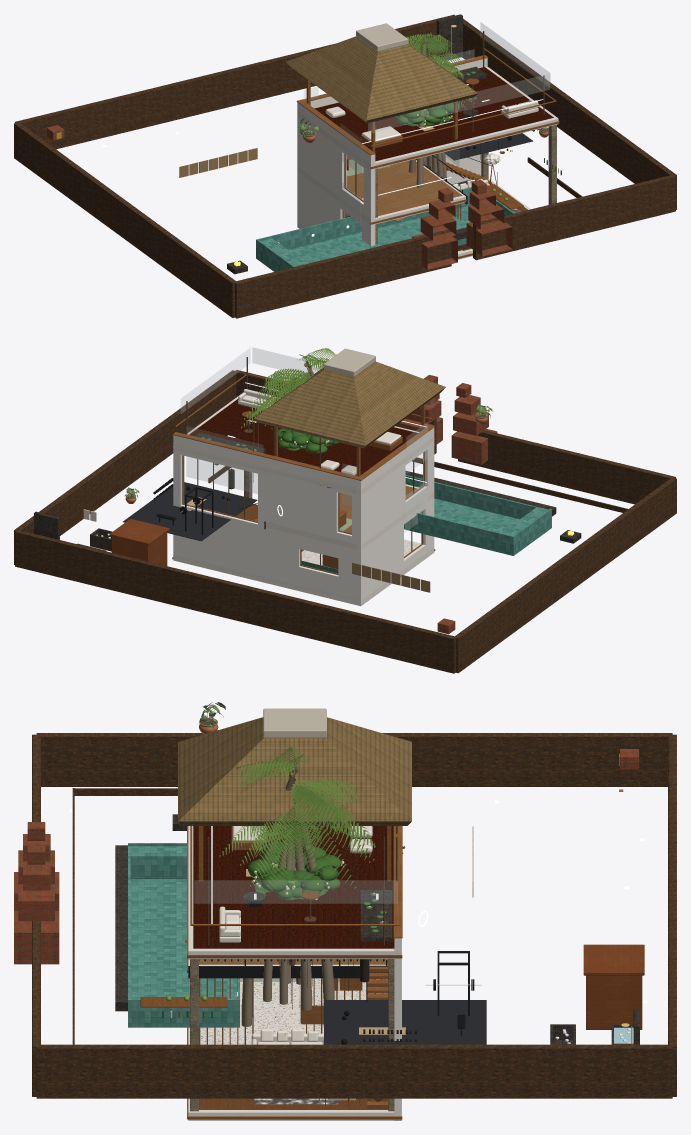
Rendered from villa-ar.glb.
The picture shows the model from 3 angles, top to bottom: view 1: azimuth 30°, elevation 25°; view 2: azimuth 150°, elevation 25°; view 3: azimuth 270°, elevation 25°; orthographic projection. The views are drawn at different scales.
Visible parts, largest first — view 1: bali_near, villa_arch, mezz_glass, palm1f; view 2: bali_near, villa_arch, mezz_glass, palm0f (×2), palm1f; view 3: bali_near, villa_arch, palm0f (×4), mezz_glass, palm2f (×2), frangi (×2), palm1f.
Part boxes in pixels (x1,y1,x2,y2): bali_near: [14, 14, 676, 318]; villa_arch: [286, 23, 559, 259]; mezz_glass: [304, 22, 550, 231]; palm1f: [407, 32, 450, 187]; bali_near: [14, 370, 676, 673]; villa_arch: [172, 348, 445, 606]; mezz_glass: [181, 347, 433, 532]; palm0f (×2): [244, 368, 313, 428]; palm1f: [299, 348, 336, 375]; bali_near: [14, 733, 676, 1098]; villa_arch: [178, 708, 411, 1120]; palm0f (×4): [219, 778, 375, 1021]; mezz_glass: [192, 826, 397, 903]; palm2f (×2): [250, 804, 358, 1010]; frangi (×2): [248, 841, 344, 900]; palm1f: [236, 747, 309, 1026].
Size of the model in its own units: 19234 by 8592 by 17078.
Materials: 96 (40 with a texture image).
